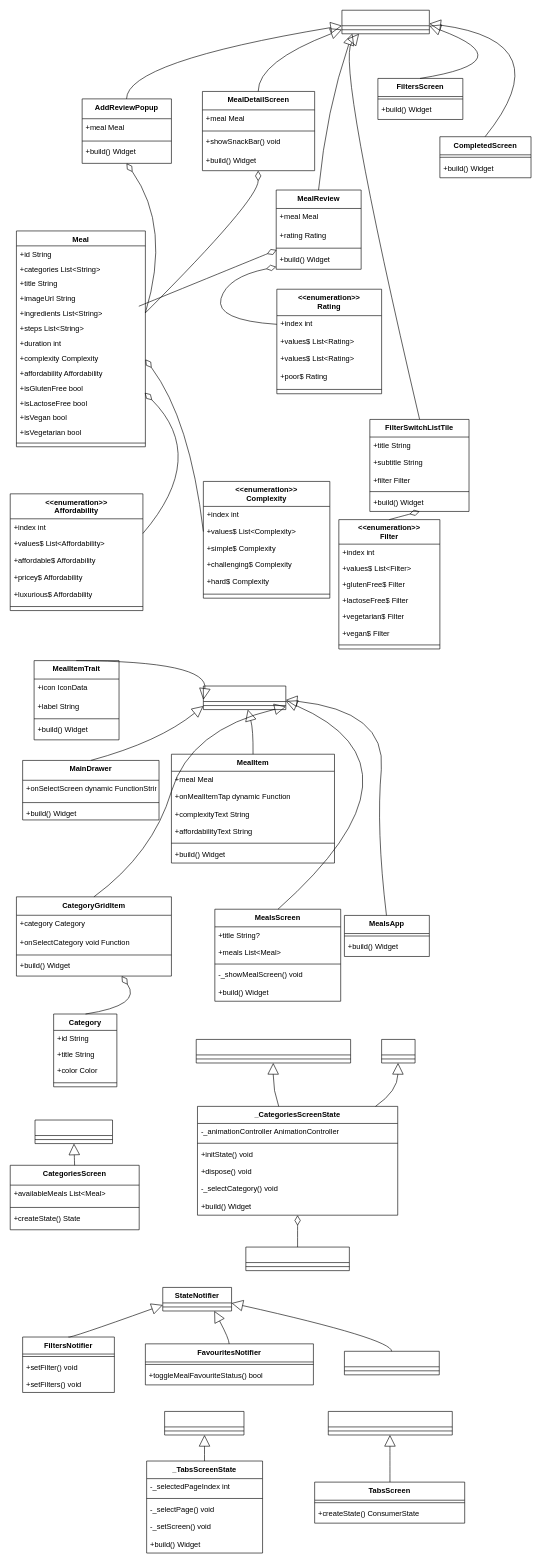
The diagram is 541 pixels wide and 1563 high, and some of its shapes have lost their labels. Here are the shapes that lost their labels. From the top down, the centre of each, then its label:
At (385,22): "ConsumerWidget".
At (244,697): "StatelessWidget".
At (273,1051): "SingleTickerProviderStateMixin".
At (398,1051): "State".
At (73,1131): "StatefulWidget".
At (297,1258): "AnimationController".
At (391,1363): "CompletedNotifier".
At (204,1423): "ConsumerState".
At (390,1423): "ConsumerStatefulWidget".
